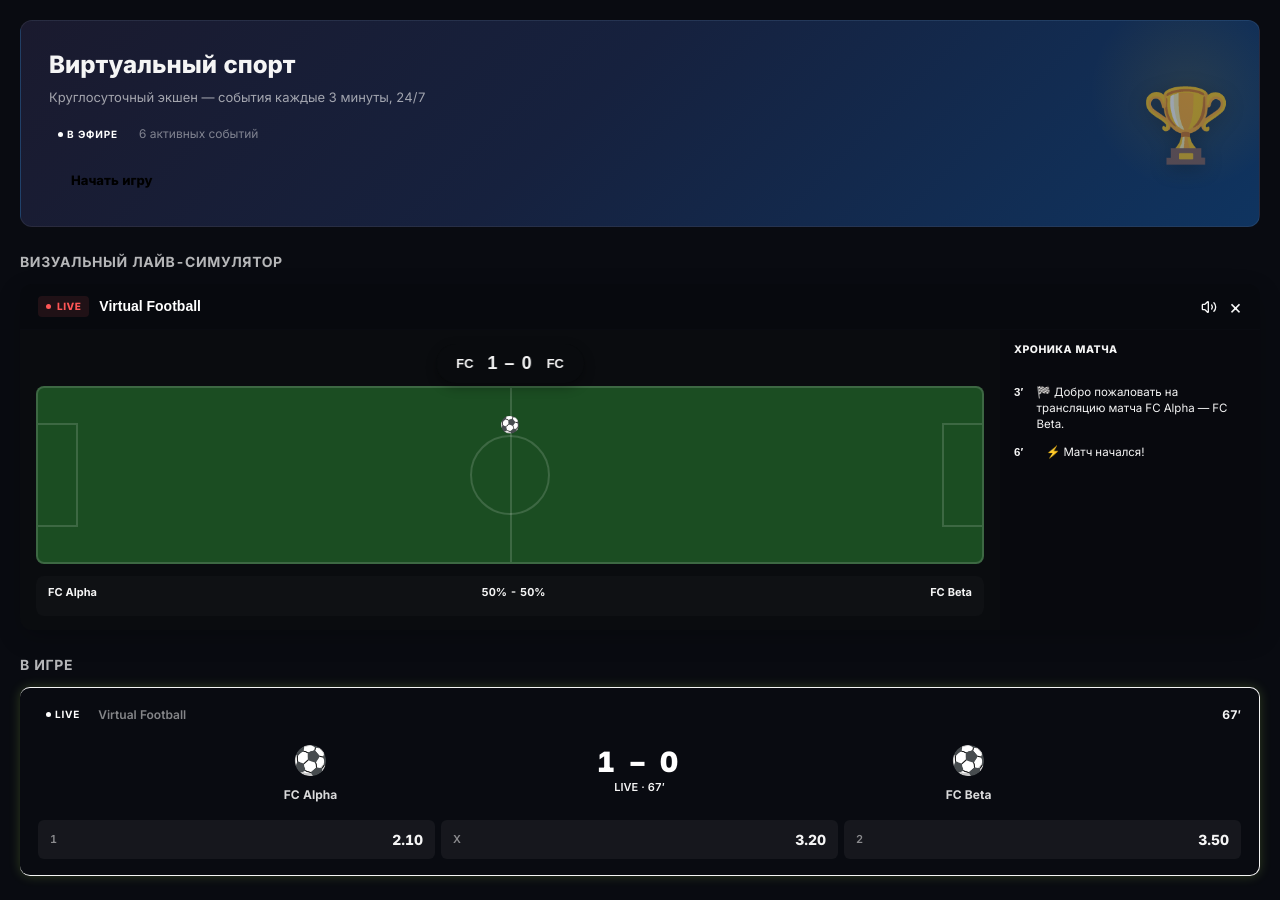
Virtuals Component › Language Support › translates toast messages to Russian
Click the button "Начать игру" at [112, 180], box [49,160,175,200]
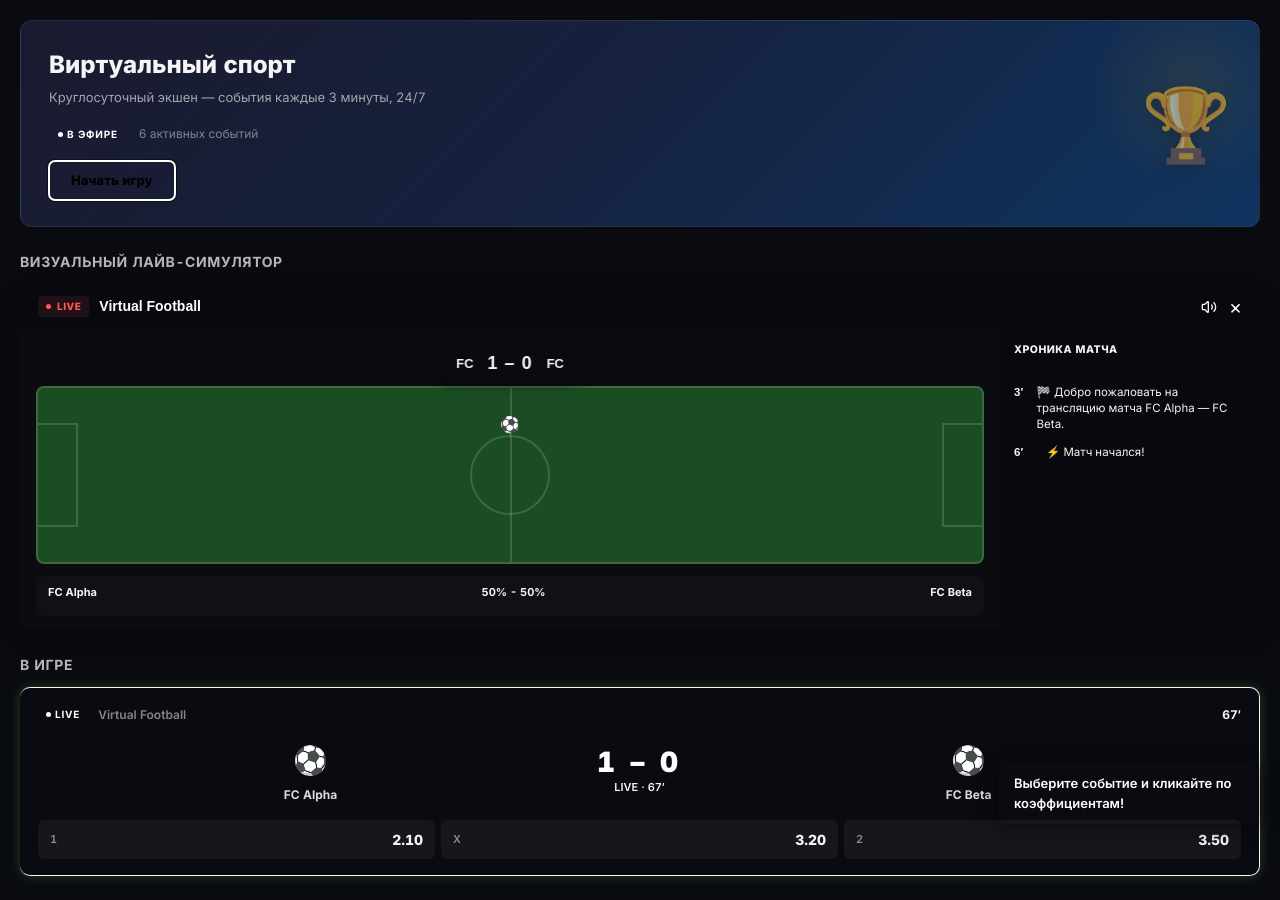
Expected: the text "Выберите событие и кликайте по коэффициентам!" is shown, [998,763,1258,824]
